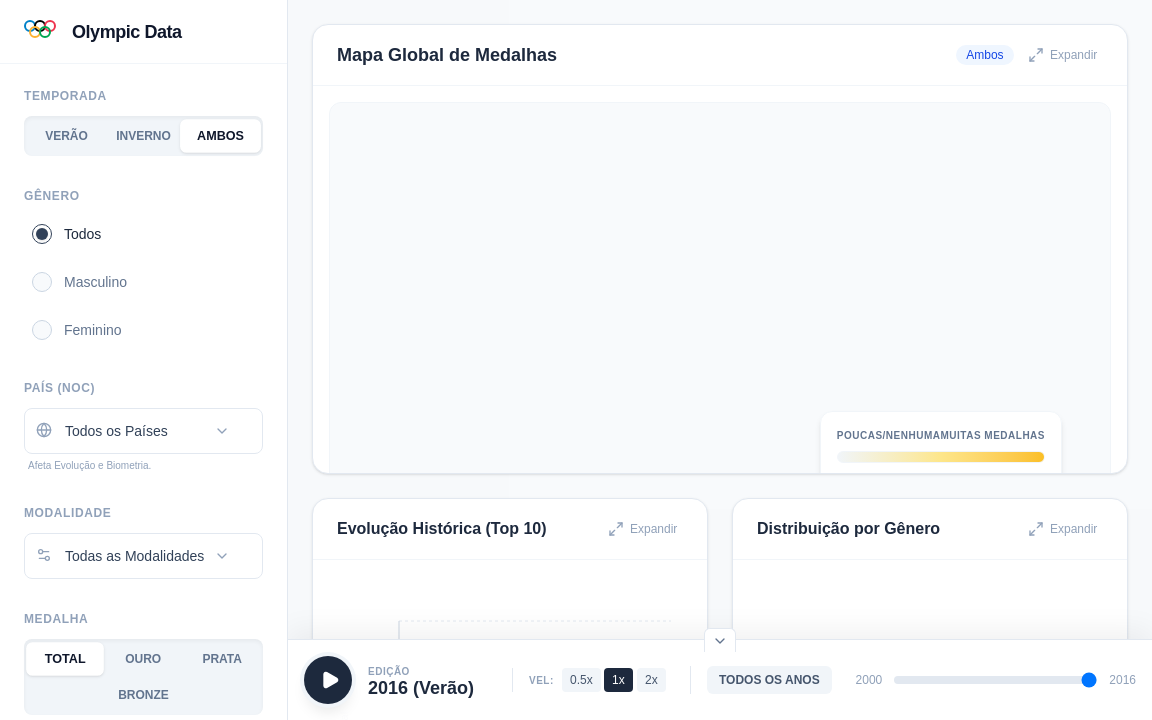
Test case: Dashboard timeline player › should toggle back from all years to specific year
This screenshot has width=1152, height=720.
Step 1. Click the button "Todos os Anos" → (769, 680), box [707,666,832,694]
Wait 200 ms
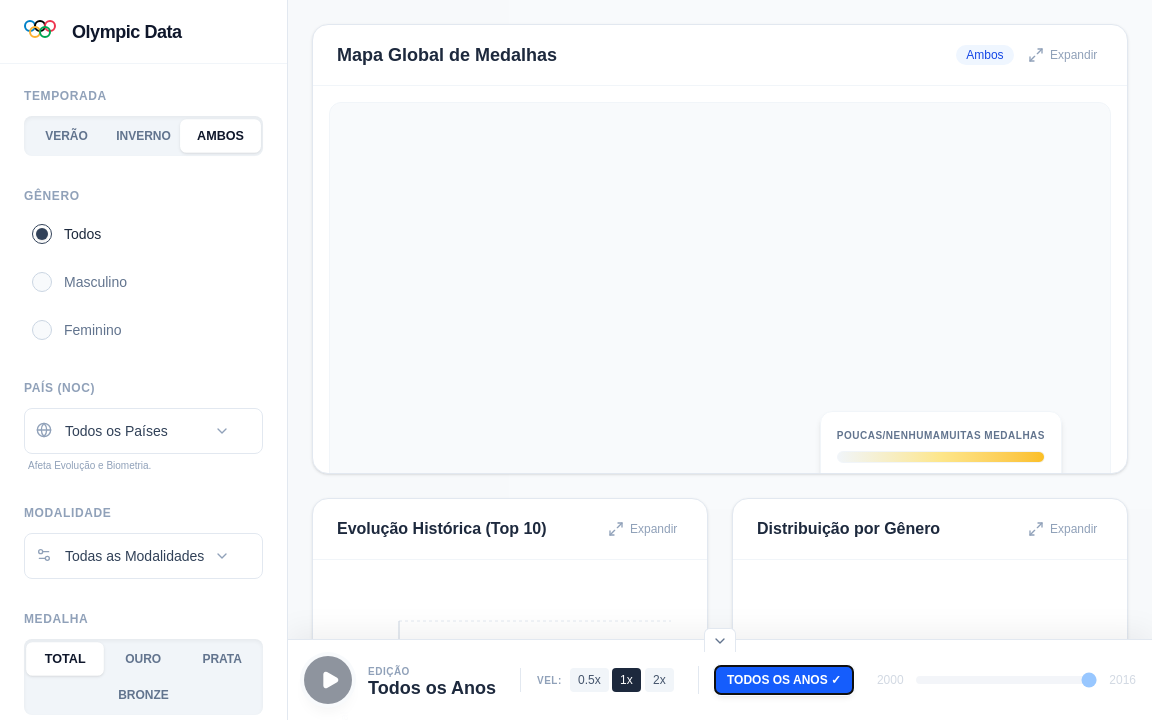
// Click again to disable
Step 2. Click the button "Todos os Anos ✓" → (784, 680), box [715,666,853,694]
Wait 200 ms
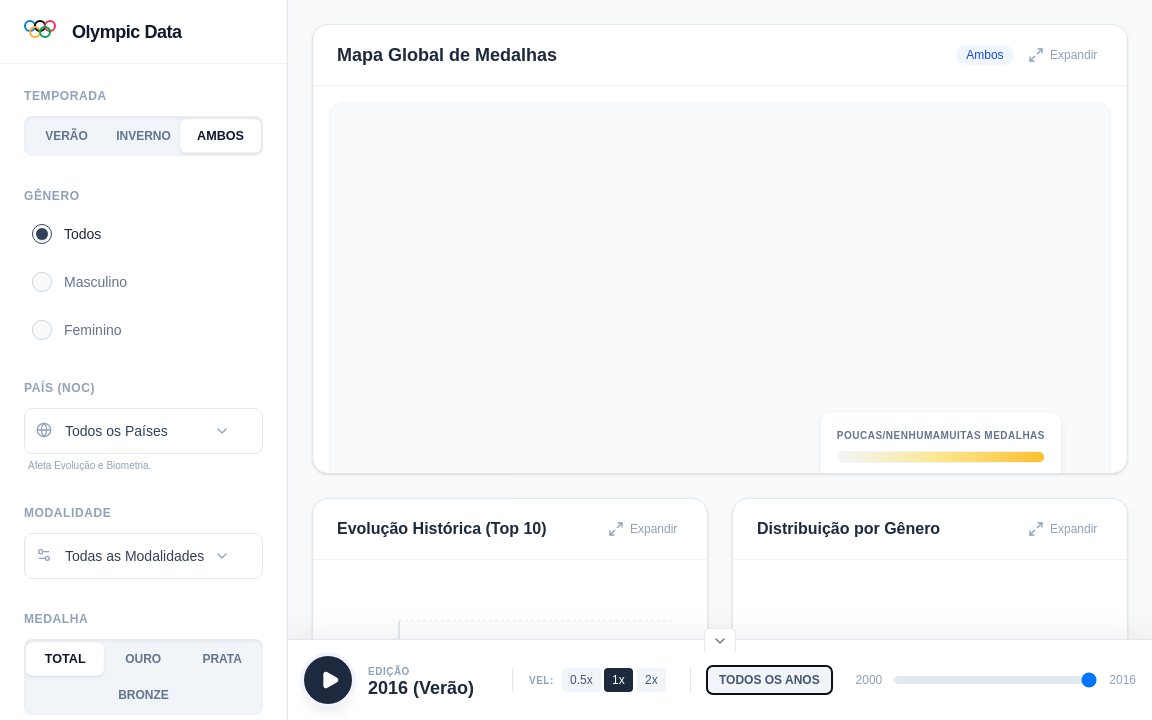
Expected: the button "✓" is gone
